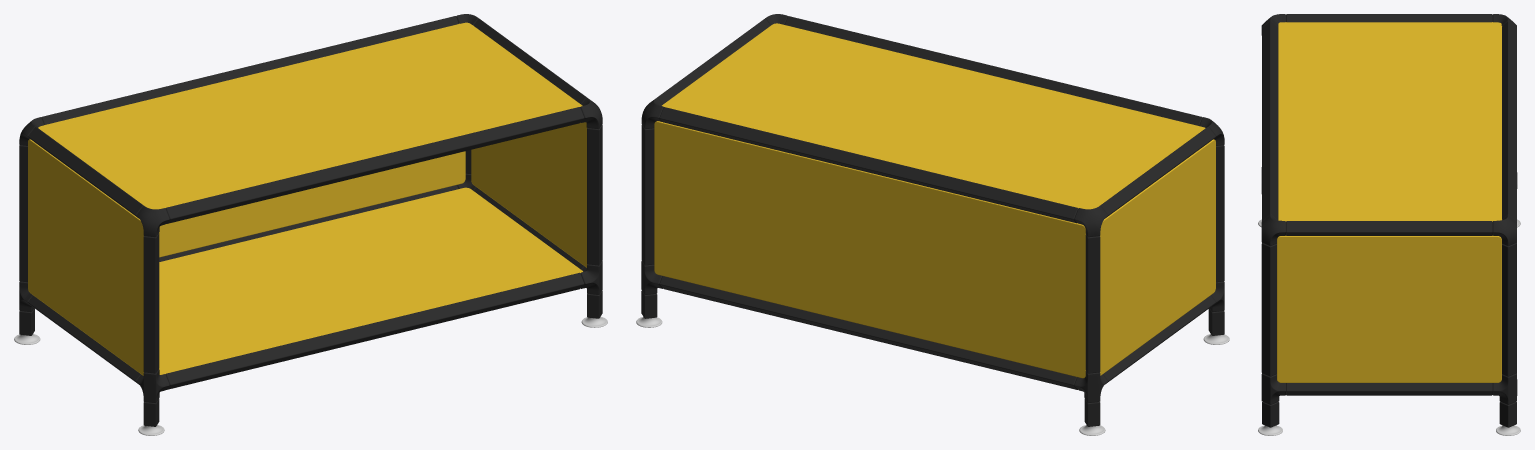
3 renders of one model, left to right at view 1: azimuth 30°, elevation 25°; view 2: azimuth 150°, elevation 25°; view 3: azimuth 270°, elevation 25°, orthographic. The views are drawn at different scales.
Visible parts, largest first — view 1: 729x329x229; view 2: 729x329x229; view 3: 729x329x229.
Boxes of the visible parts, x1,y1,x2,y2 form: 729x329x229: [14, 14, 607, 435]; 729x329x229: [636, 14, 1229, 435]; 729x329x229: [1258, 14, 1520, 435].
Size of the model in its own units: 0.8189 by 0.3683 by 0.4182.
